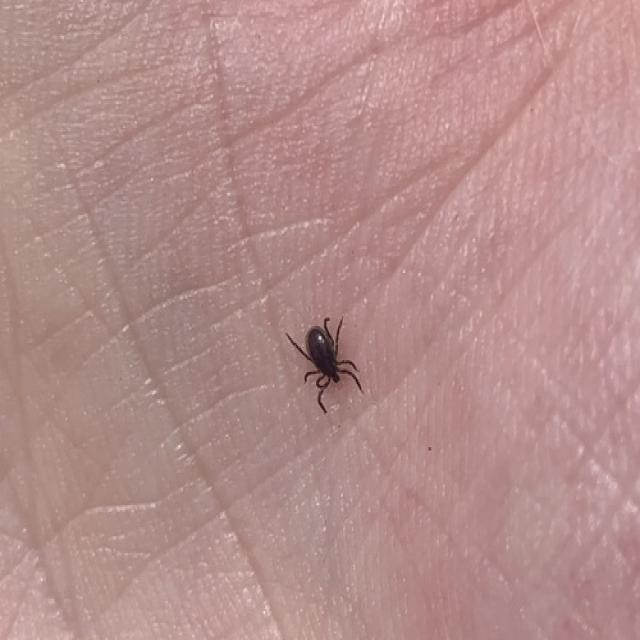Ixodes Ricinus-M: (284, 317, 364, 415)
